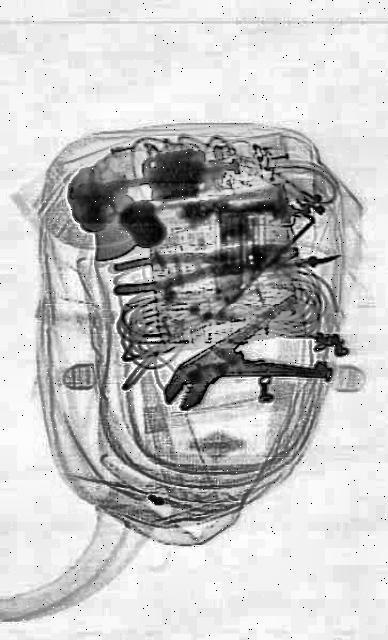Pliers: (156, 282, 330, 446), (111, 229, 300, 297)
